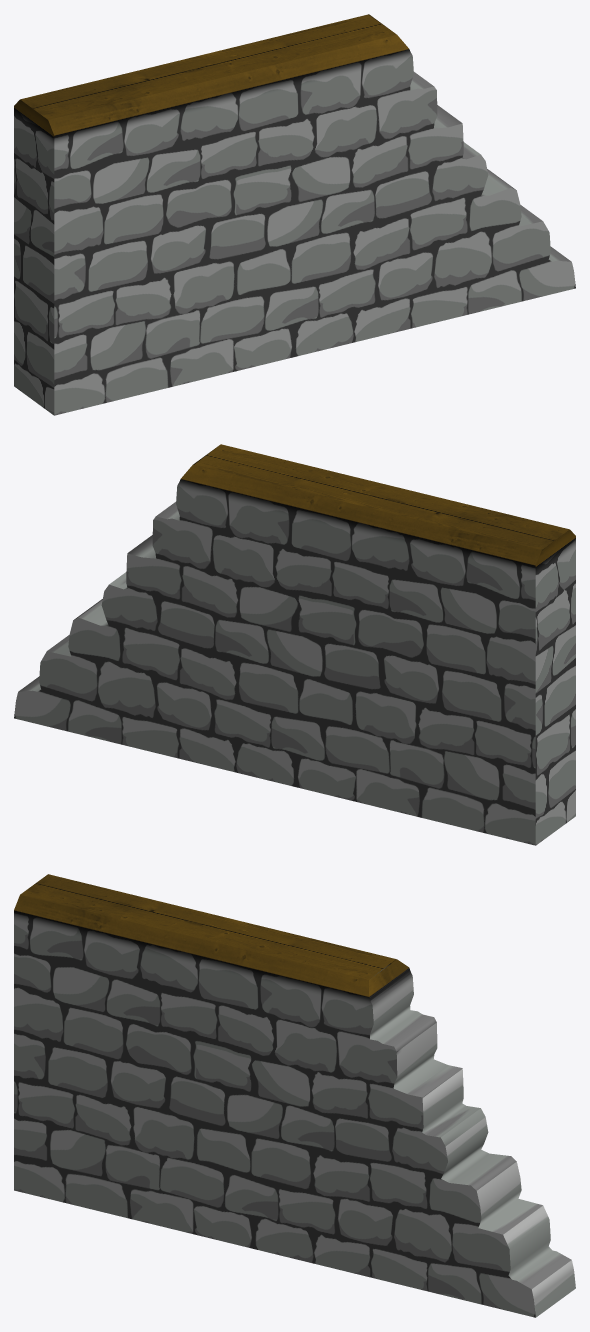
Rendered from mod_wall_straight_d.fbx.
The picture shows the model from 3 angles, top to bottom: view 1: azimuth 30°, elevation 25°; view 2: azimuth 150°, elevation 25°; view 3: azimuth 330°, elevation 25°; orthographic projection.
Parts seen in each view (by area): view 1: pCube4; view 2: pCube4; view 3: pCube4.
Boxes of the visible parts, bbox=[...] form: pCube4: bbox=[14, 14, 575, 415]; pCube4: bbox=[14, 444, 575, 845]; pCube4: bbox=[14, 874, 575, 1317].
Bounding box in the file's own units: 975 × 520 × 130.
